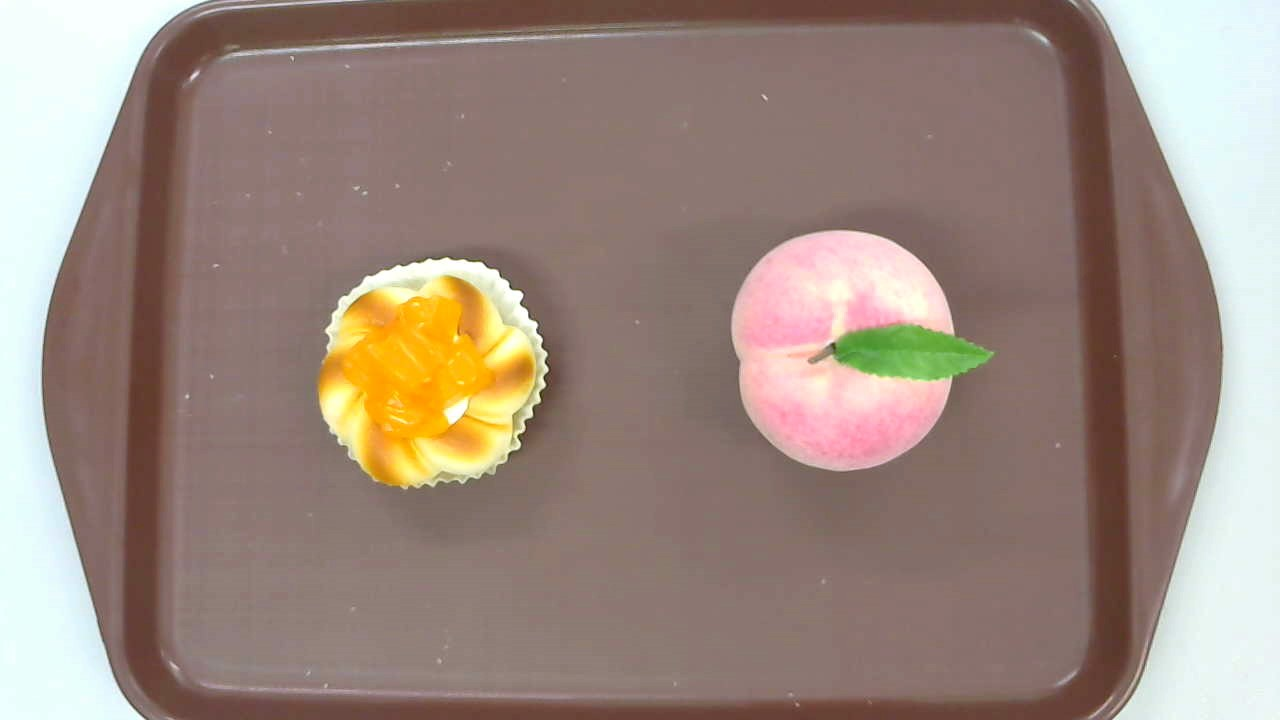mango tart: (318, 258, 550, 490)
peach: (731, 230, 993, 472)
